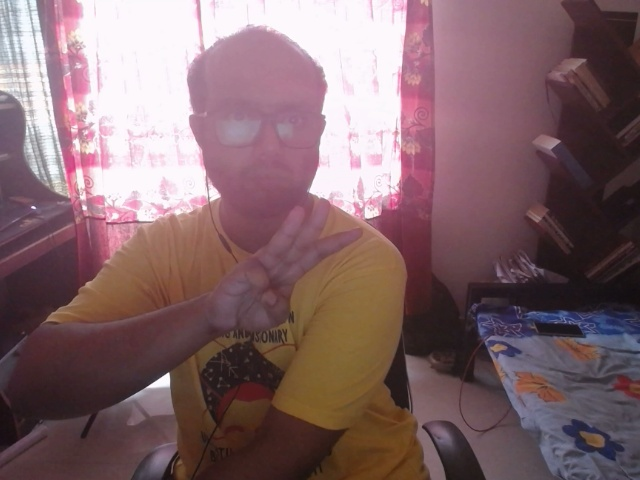three: (233, 193, 391, 326)
